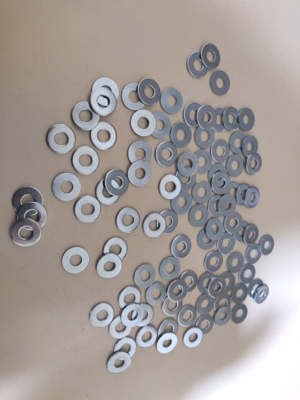circle: (11, 187, 44, 217), (11, 218, 43, 247), (16, 202, 48, 231), (46, 124, 76, 154), (52, 173, 81, 202), (73, 195, 102, 224), (61, 247, 90, 275), (72, 146, 100, 175), (72, 102, 100, 131), (91, 78, 119, 106), (90, 122, 117, 151), (103, 168, 130, 197), (95, 178, 122, 206), (130, 110, 156, 138), (103, 237, 129, 264), (90, 90, 117, 116), (127, 140, 154, 166), (121, 83, 146, 111), (136, 78, 161, 106), (116, 206, 141, 234), (96, 254, 122, 280), (160, 87, 184, 115), (159, 174, 183, 202), (186, 51, 209, 80), (113, 337, 138, 362), (128, 161, 152, 187), (117, 286, 143, 310), (148, 112, 171, 139), (90, 303, 114, 328), (170, 191, 194, 216), (108, 316, 133, 340), (133, 264, 157, 289), (144, 282, 168, 307), (170, 123, 193, 149), (159, 257, 183, 281), (120, 304, 144, 328), (131, 304, 155, 328), (135, 325, 159, 349), (143, 213, 166, 238), (170, 235, 193, 260), (155, 142, 178, 167), (200, 44, 222, 70), (210, 138, 232, 164), (177, 270, 200, 294), (183, 104, 206, 128), (107, 352, 132, 374), (210, 70, 231, 96), (157, 209, 178, 234), (191, 150, 212, 175), (198, 105, 218, 131), (237, 107, 257, 133), (166, 280, 188, 303), (194, 126, 216, 149), (178, 153, 199, 177), (209, 108, 229, 133), (210, 173, 232, 195), (195, 294, 217, 316), (197, 272, 218, 295), (192, 181, 213, 204), (178, 305, 199, 328), (189, 205, 209, 229), (222, 107, 241, 132), (183, 327, 204, 349), (213, 306, 234, 328), (162, 295, 183, 317), (156, 333, 178, 354), (158, 319, 179, 341), (195, 314, 215, 337), (229, 283, 249, 306), (218, 195, 237, 218), (205, 218, 224, 241), (205, 250, 224, 273), (226, 155, 245, 178), (229, 132, 248, 155), (241, 135, 259, 159), (226, 252, 245, 274), (224, 213, 243, 235), (217, 233, 236, 255), (198, 228, 217, 250), (245, 153, 263, 176), (208, 277, 227, 298), (248, 278, 266, 300), (239, 264, 257, 286), (235, 184, 253, 206), (233, 221, 251, 243), (231, 304, 249, 325), (259, 234, 275, 256), (245, 187, 261, 209), (243, 224, 259, 246), (245, 244, 262, 264), (254, 284, 270, 305)
